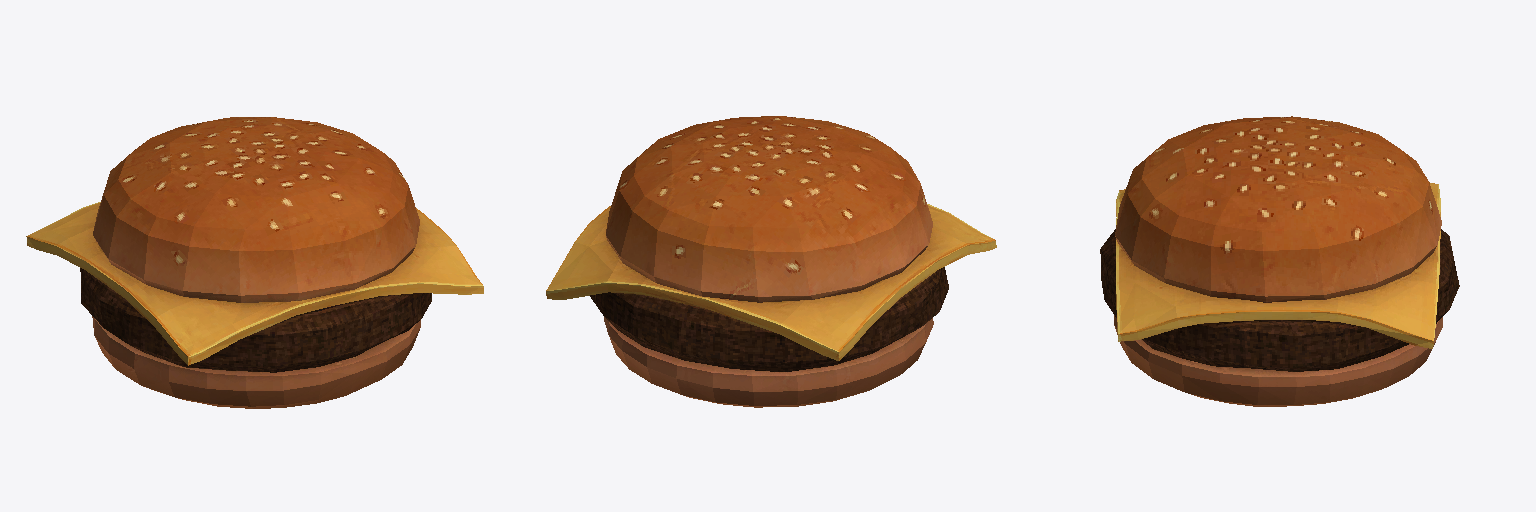
The picture shows the model from 3 angles: view 1: azimuth 30°, elevation 25°; view 2: azimuth 150°, elevation 25°; view 3: azimuth 270°, elevation 25°; orthographic projection.
Parts seen in each view (by area): view 1: burger_reference; view 2: burger_reference; view 3: burger_reference.
Boxes of the visible parts, x1,y1,x2,y2 form: burger_reference: [26, 117, 483, 408]; burger_reference: [546, 116, 996, 407]; burger_reference: [1100, 116, 1459, 406].
Size of the model in its own units: 6.67 by 4.36 by 6.66.
1 materials, 1 textured.